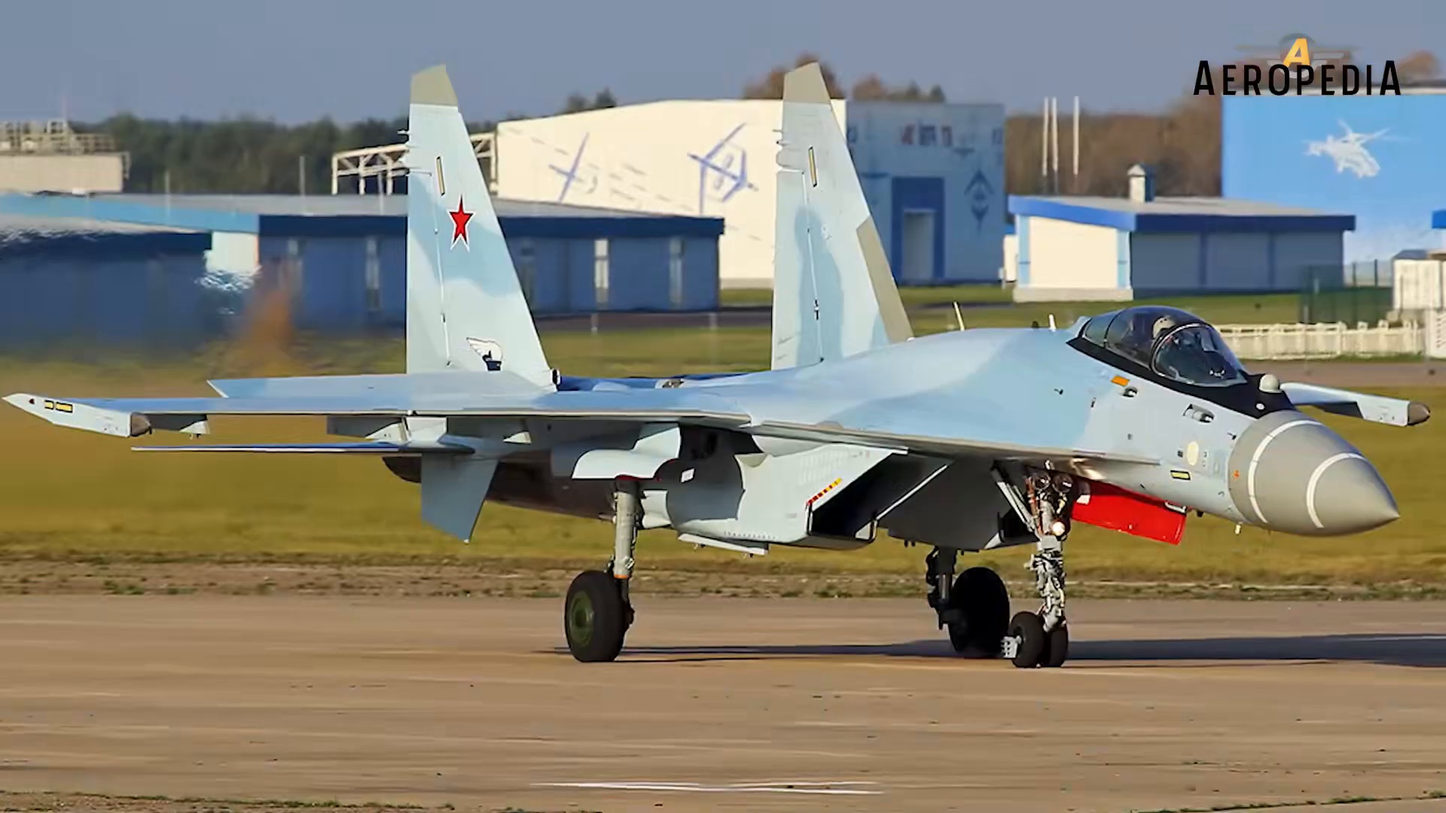Su35: (0, 62, 1433, 667)
